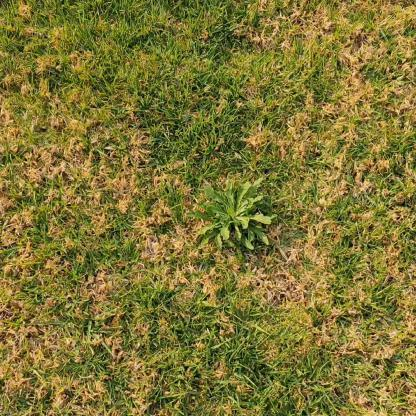Weeds: (186, 177, 278, 252)
